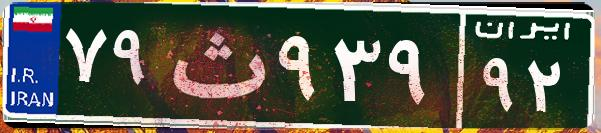2: (525, 38, 570, 115)
3: (330, 28, 385, 110)
7: (57, 26, 110, 107)
9: (385, 28, 445, 110), (273, 28, 330, 110), (475, 38, 525, 113), (110, 28, 158, 105)
ث: (158, 15, 273, 115)
